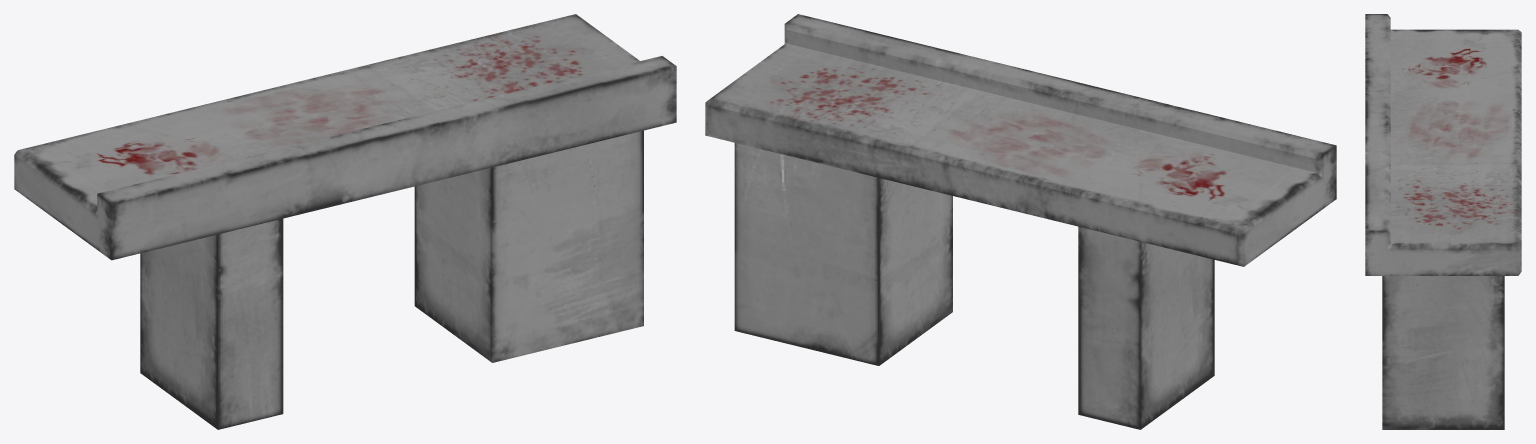
The model's file is lab_counter.glb.
3 views of the same model, side by side, from view 1: azimuth 30°, elevation 25°; view 2: azimuth 150°, elevation 25°; view 3: azimuth 270°, elevation 25° (orthographic). The views are drawn at different scales.
Parts seen in each view (by area): view 1: lab_counter; view 2: lab_counter; view 3: lab_counter.
Part boxes in pixels (x1=…): lab_counter: x1=14, y1=14, x2=676, y2=429; lab_counter: x1=705, y1=14, x2=1336, y2=429; lab_counter: x1=1365, y1=14, x2=1521, y2=429.
Size of the model in its own units: 2 by 0.8892 by 0.6083.
Materials: 1 (1 with a texture image).
